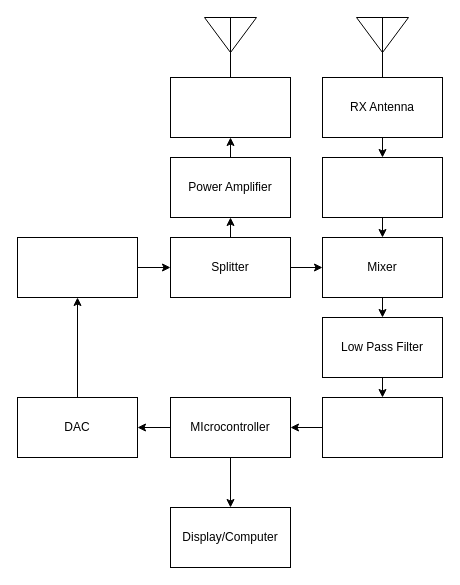
Some shapes in this 460 by 585 pixel diagram are drawn without their labels. The centre of each missing label's shape, as x and y in pixels:
"ADC" goes at point (382, 427).
"Low Noise Amplifier" goes at point (382, 187).
"TX Antenna" goes at point (230, 107).
"Voltage Controlled Oscillator" goes at point (77, 267).
